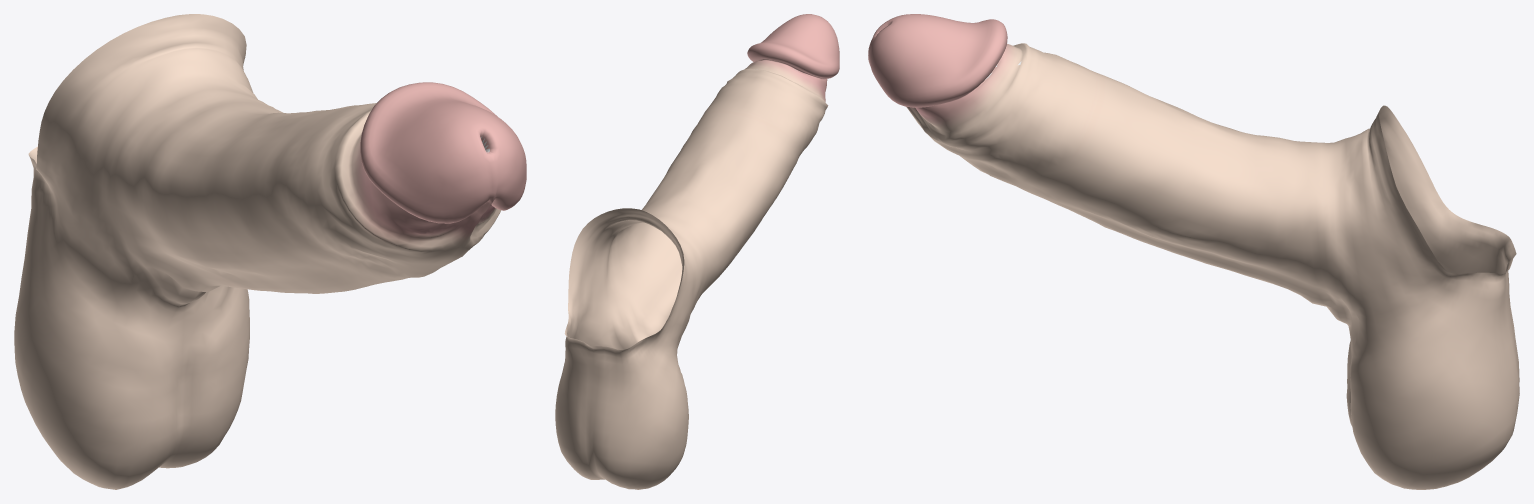
The model's file is cockv.glb.
3 views of the same model, side by side, from view 1: azimuth 30°, elevation 25°; view 2: azimuth 150°, elevation 25°; view 3: azimuth 270°, elevation 25° (orthographic). The views are drawn at different scales.
Visible parts, largest first — view 1: Penis_Human_0; view 2: Penis_Human_0; view 3: Penis_Human_0.
Boxes of the visible parts, x1=… form: Penis_Human_0: x1=14, y1=14, x2=526, y2=489; Penis_Human_0: x1=555, y1=14, x2=839, y2=489; Penis_Human_0: x1=868, y1=14, x2=1519, y2=489.
Size of the model in its own units: 0.0619 by 0.1721 by 0.2209.
2 materials, 1 textured.
